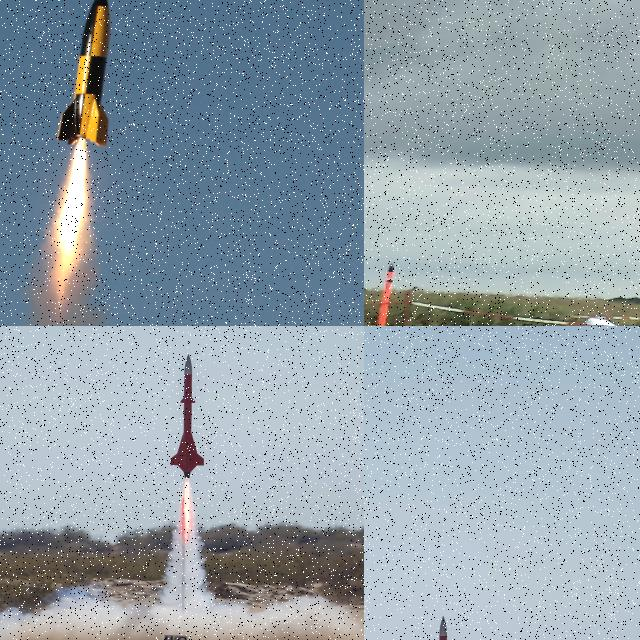Rocket: (54, 0, 112, 149), (170, 353, 204, 479), (367, 261, 394, 326), (425, 615, 459, 640)
